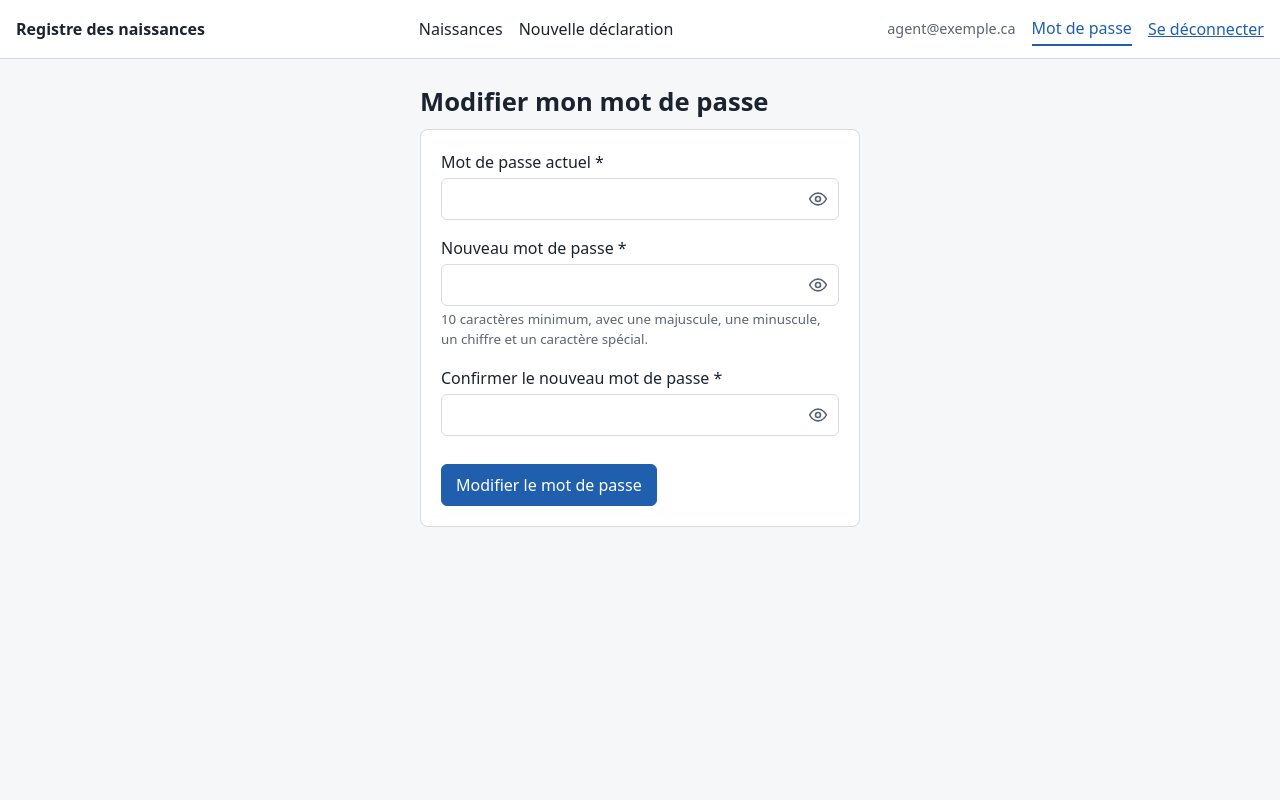
Test case: Changement de mot de passe › modifie le mot de passe et vide le formulaire
In the password field labelled "Mot de passe actuel *": {"x": 640, "y": 199} [441,178,839,220], type "Ancien-MotDePasse1"
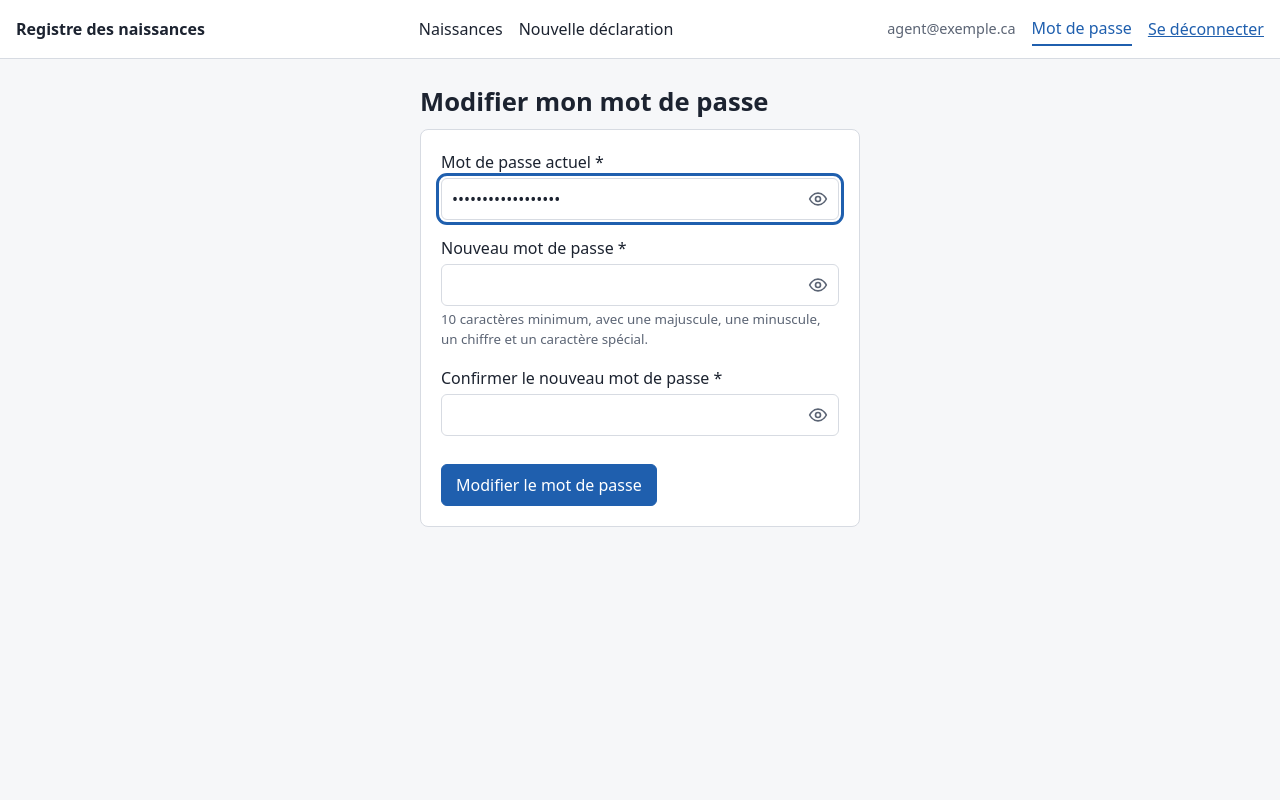
In the password field labelled "Nouveau mot de passe *": {"x": 640, "y": 285} [441,264,839,306], type "Nouveau-MotDePasse2"
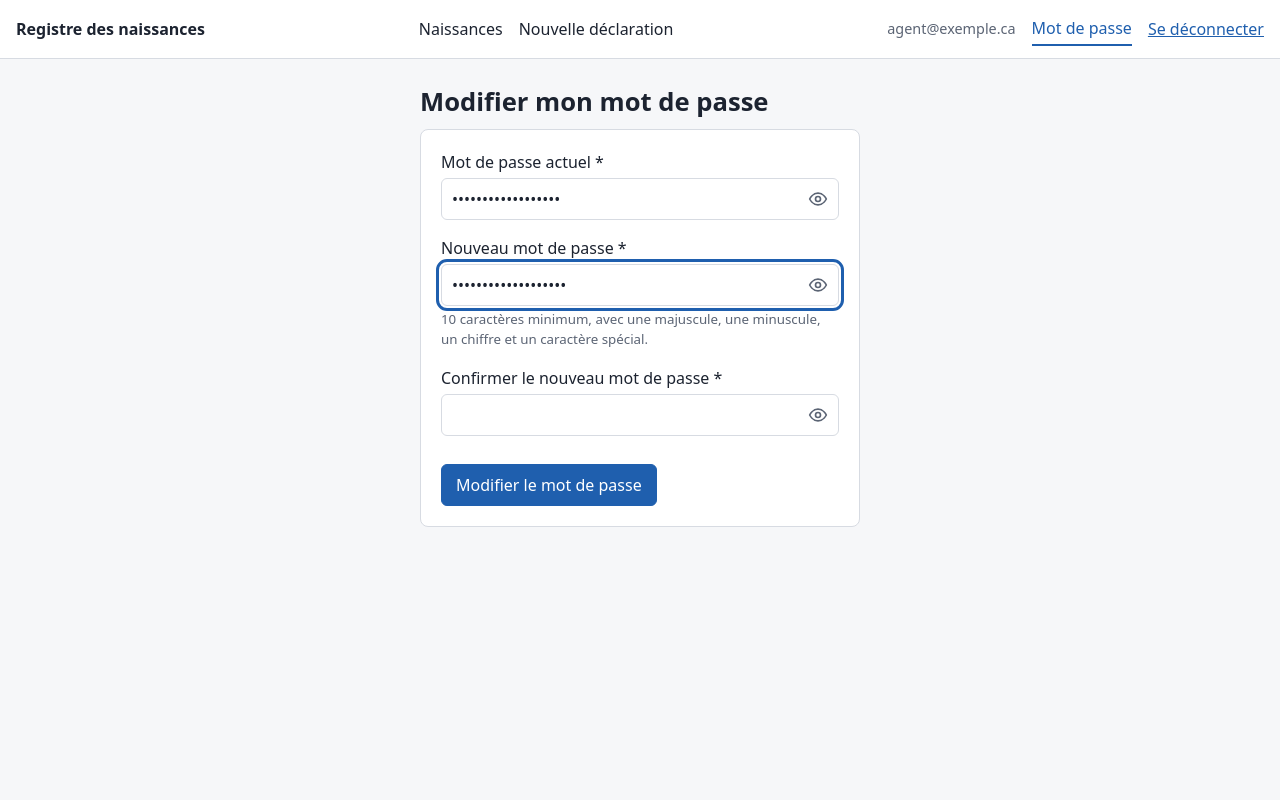
In the password field labelled "Confirmer le nouveau mot de passe *": {"x": 640, "y": 415} [441,394,839,436], type "Nouveau-MotDePasse2"
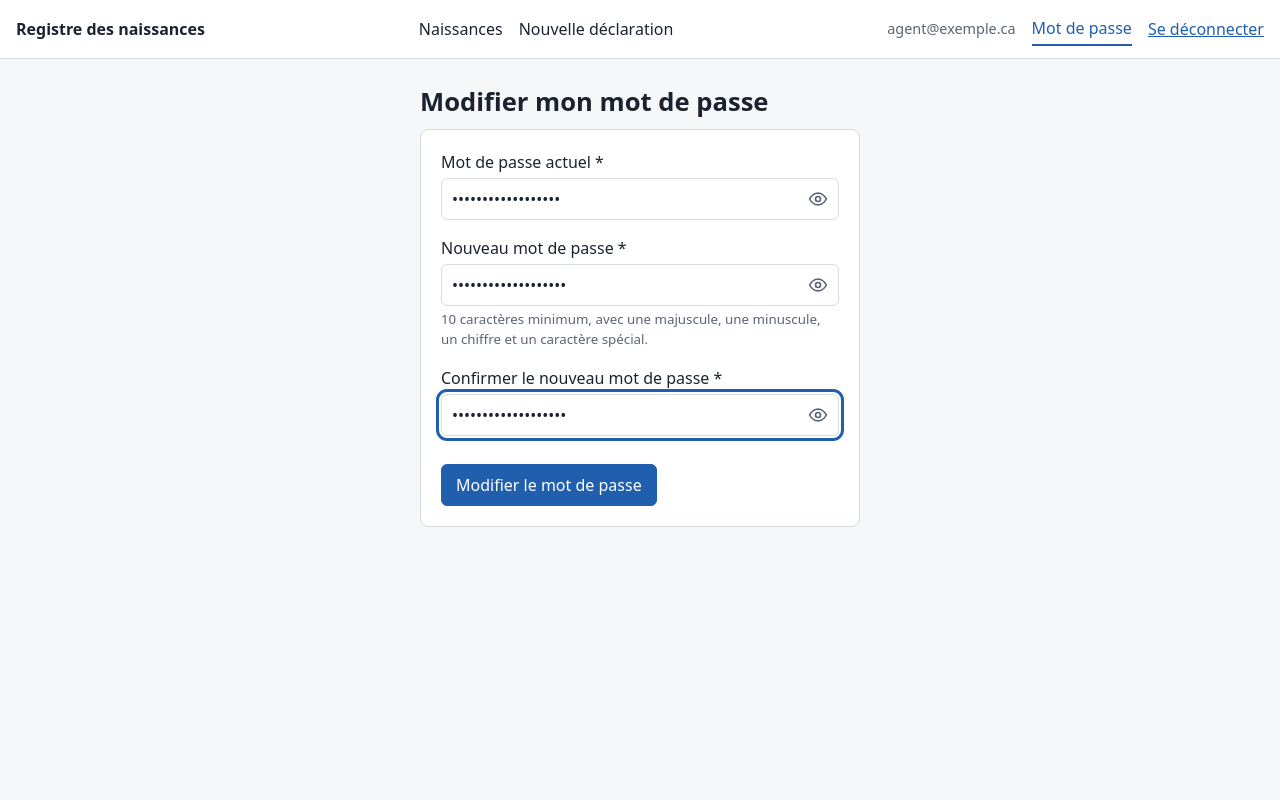
Click the button "Modifier le mot de passe": {"x": 549, "y": 485} [441,464,657,506]
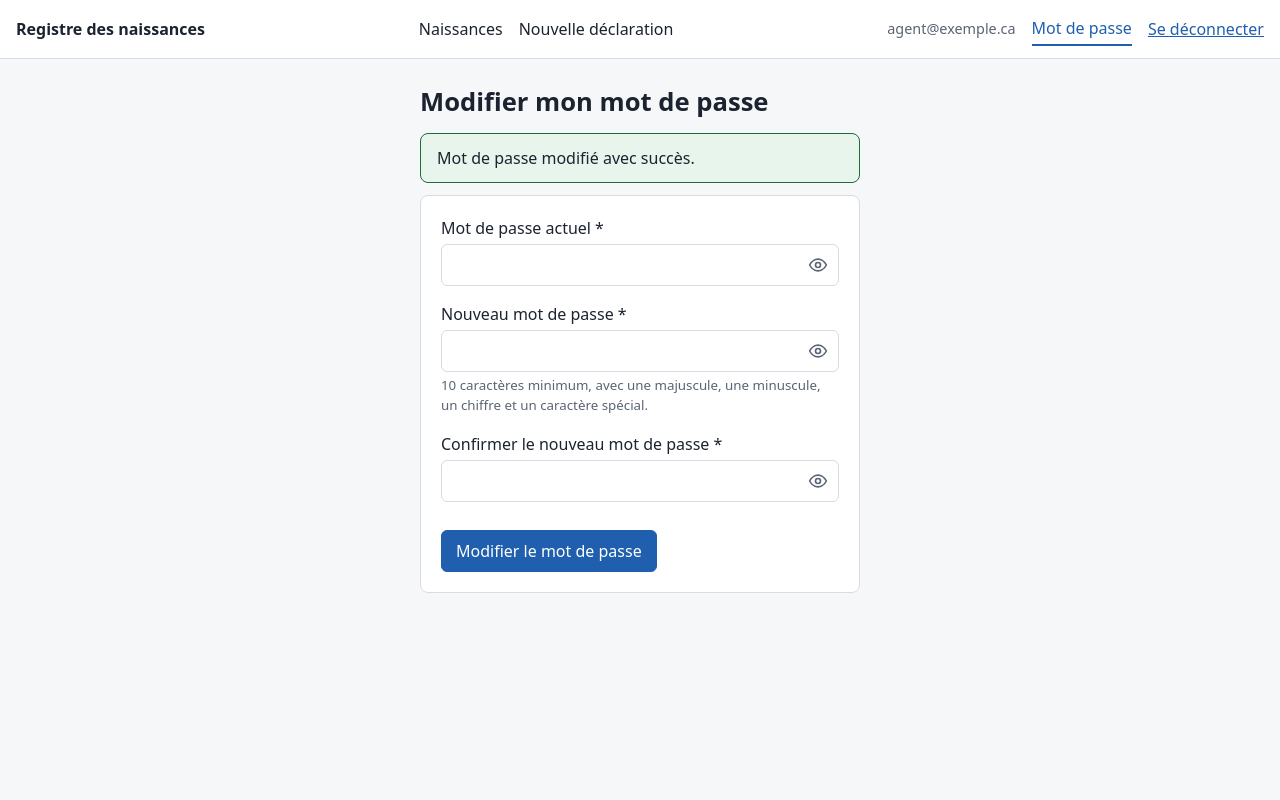
Expected: the message reads "Mot de passe modifié avec succès.", [437,147,695,169]
Expected: the password field labelled "Mot de passe actuel *" is empty, [441,244,839,286]
